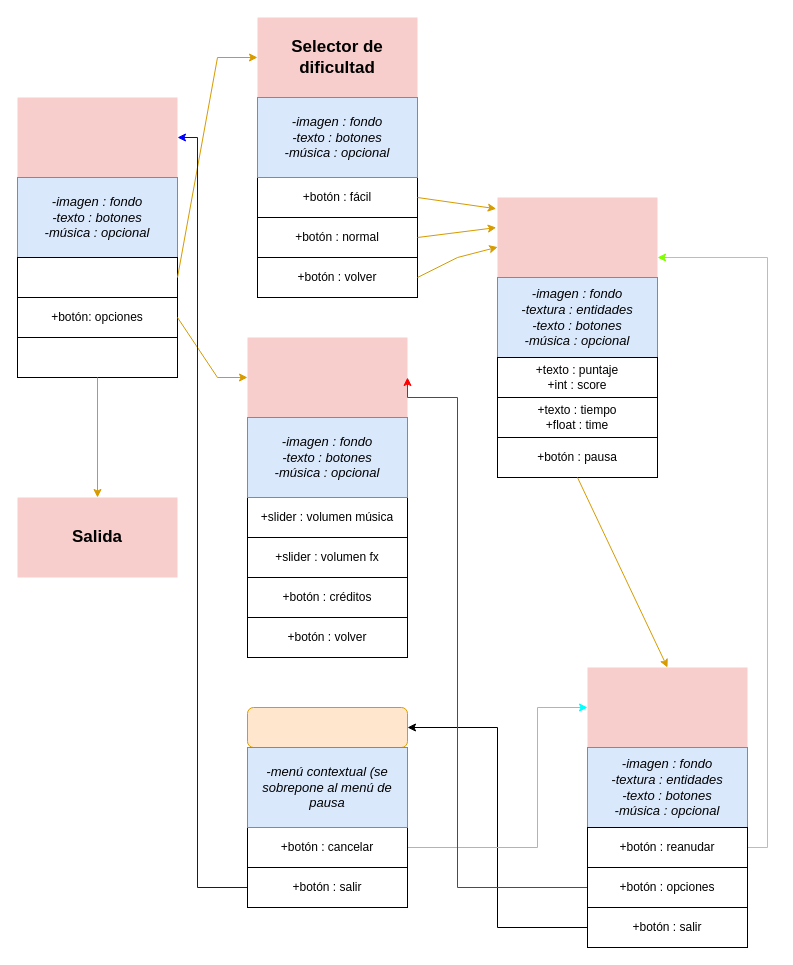
Image size: 793x965. Some labels were removed from this diagram. The shapes that lost their labels are listed below. From the top down, each one's centre as x and y in pixels, then its label:
At [97,137]: "Menú principal".
At [577,237]: "Nivel".
At [97,277]: "+botón: iniciar partida".
At [97,357]: "+botón: salir".
At [327,377]: "Menú de opciones".
At [327,727]: "Confirmación de salida".
At [667,707]: "Menú de pausa".
